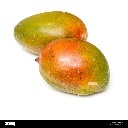mango: (35, 38, 111, 96), (11, 11, 89, 55)
